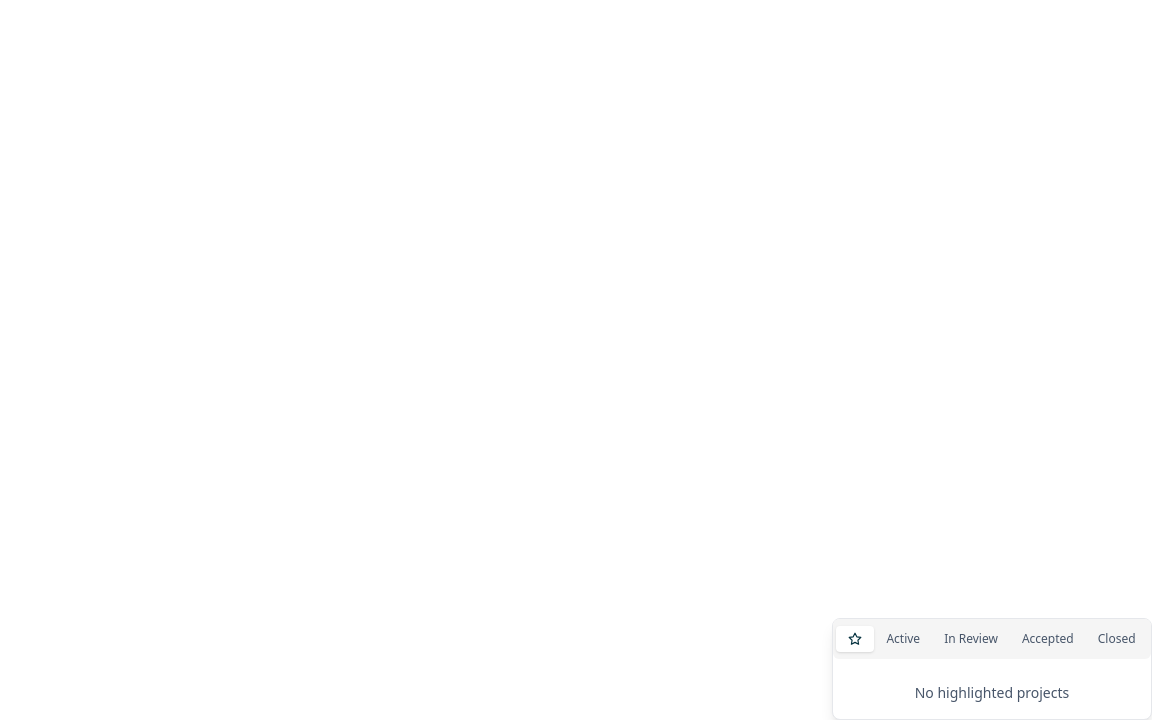
Test: ProjectsListFloating › shows empty message when no projects in active tab
(page scrolled)
Click the tab "Active".
click(903, 639)  # box [874,625,932,653]
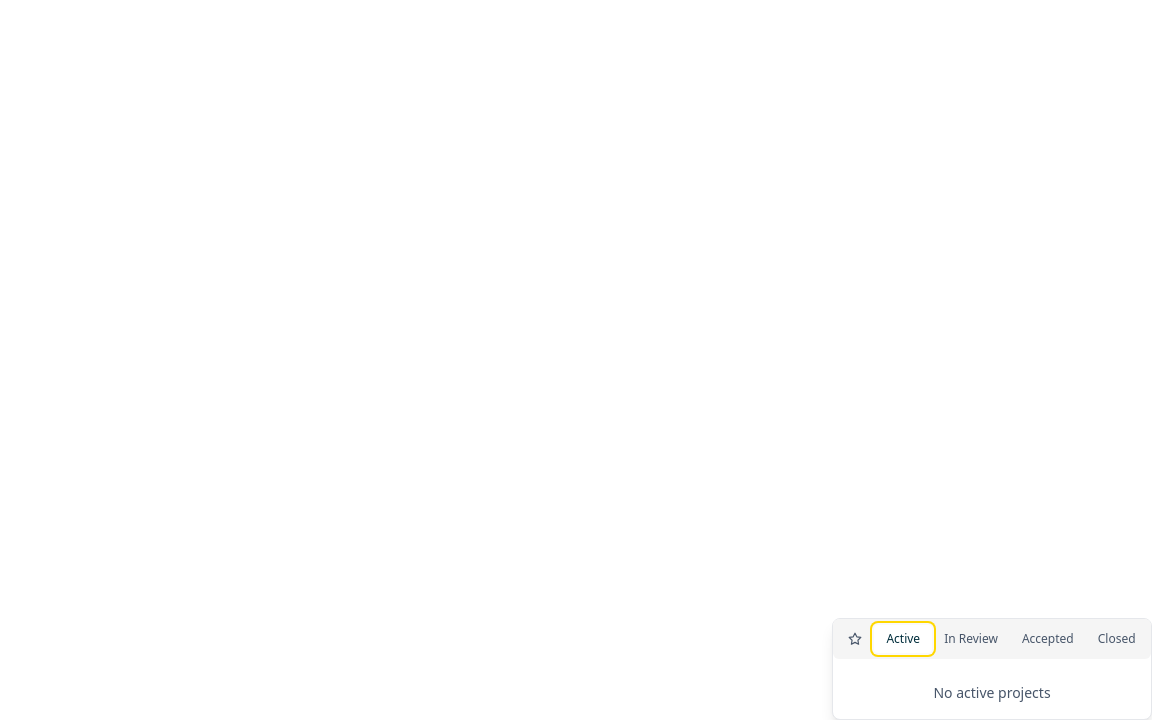
Check: the text "No active projects" is shown, box [933,683,1051,702]
